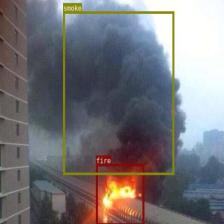fire: (95, 163, 144, 224)
smoke: (63, 11, 174, 175)
